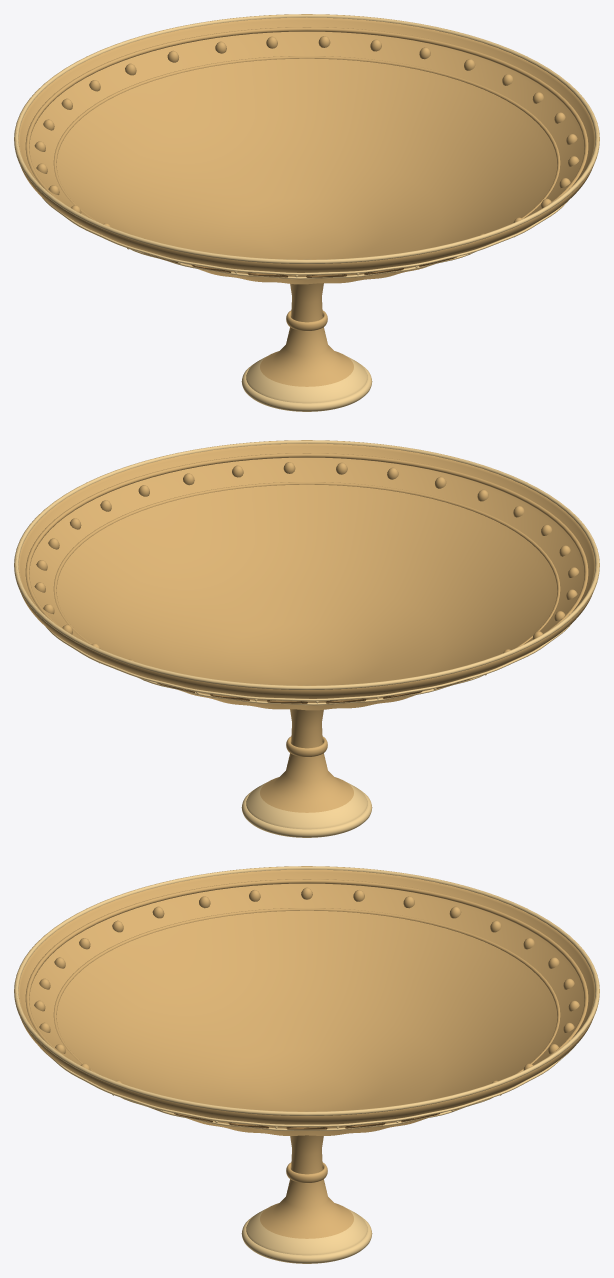
The model's file is bowl-v6.glb.
3 views of the same model, one above another, from view 1: azimuth 30°, elevation 25°; view 2: azimuth 150°, elevation 25°; view 3: azimuth 270°, elevation 25° (orthographic).
Parts seen in each view (by area): view 1: MIDIS_Patera_V6_Concave_Flutes; view 2: MIDIS_Patera_V6_Concave_Flutes; view 3: MIDIS_Patera_V6_Concave_Flutes.
Boxes of the visible parts, x1,y1,x2,y2 form: MIDIS_Patera_V6_Concave_Flutes: (14, 14, 599, 411); MIDIS_Patera_V6_Concave_Flutes: (14, 440, 599, 837); MIDIS_Patera_V6_Concave_Flutes: (14, 866, 599, 1263).
Size of the model in its own units: 1.77 by 0.831 by 1.77.
